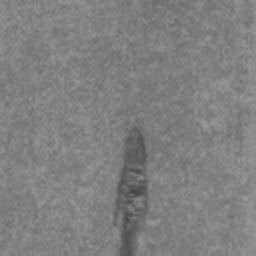Oxide scale of plate system: (110, 120, 150, 256)
